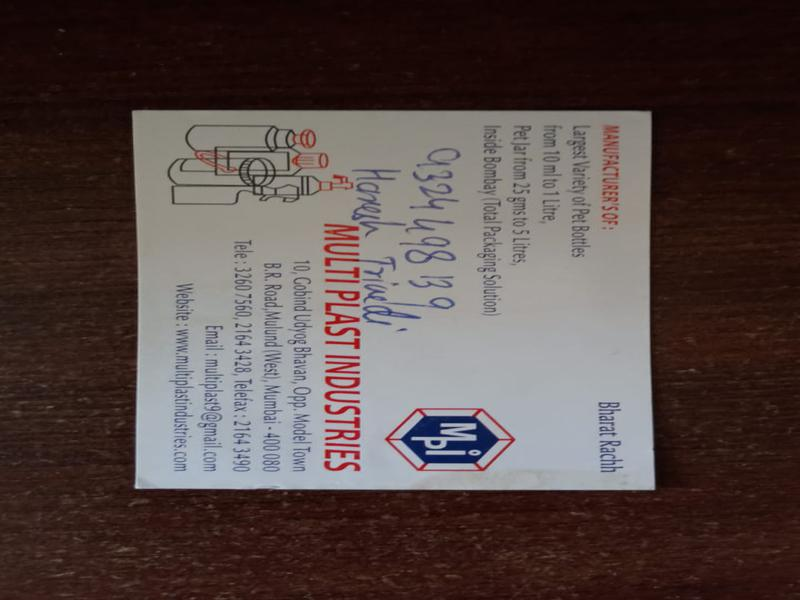card: (135, 109, 650, 487)
